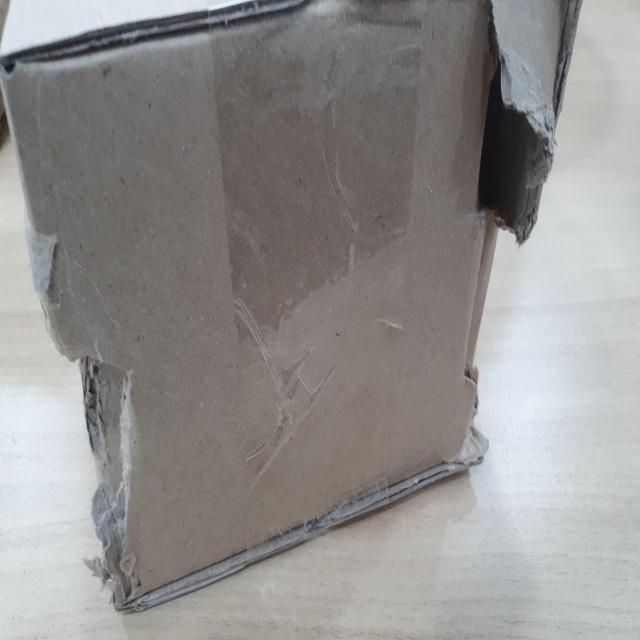damaged: (475, 6, 553, 229), (74, 336, 143, 543)
